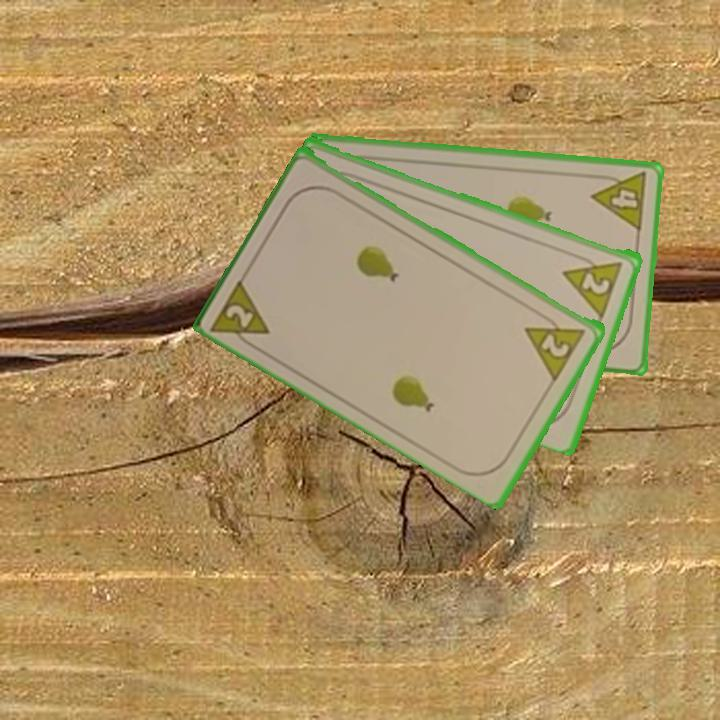2p: (208, 273, 274, 354), (521, 308, 589, 382), (560, 250, 626, 318)
4p: (588, 169, 651, 234)
